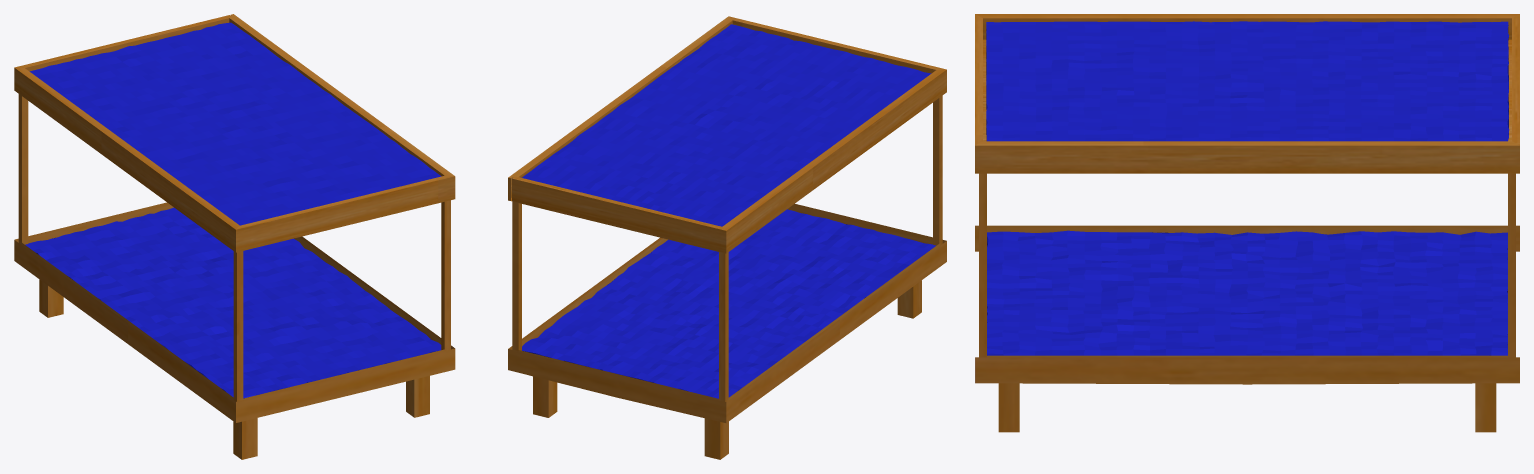
File: bett.obj
The picture shows the model from 3 angles, left to right: view 1: azimuth 30°, elevation 25°; view 2: azimuth 150°, elevation 25°; view 3: azimuth 270°, elevation 25°; orthographic projection. The views are drawn at different scales.
Parts seen in each view (by area): view 1: Leiter; view 2: Leiter; view 3: Leiter.
Boxes of the visible parts, bbox=[...] form: Leiter: bbox=[14, 14, 455, 459]; Leiter: bbox=[508, 16, 946, 459]; Leiter: bbox=[975, 14, 1519, 432].
Size of the model in its own units: 4.73 by 4.43 by 7.
2 materials, 1 textured.
